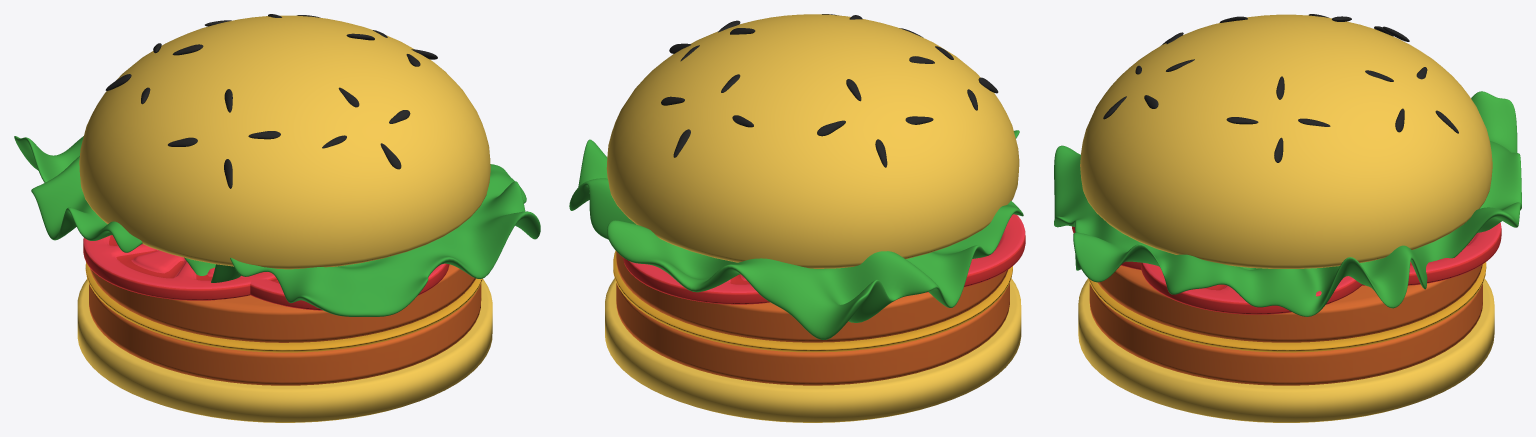
The model's file is Burger.fbx.
3 renders of one model, left to right at view 1: azimuth 30°, elevation 25°; view 2: azimuth 150°, elevation 25°; view 3: azimuth 270°, elevation 25°, orthographic.
Visible parts, largest first — view 1: Bread Up, Salat.001, Bread Down, Meat, Meat.001, Tomato.001, Bread Middle, Seed, Tomato.004; view 2: Bread Up, Salat.001, Bread Down, Meat, Meat.001, Bread Middle, Seed, Tomato.002, Tomato.001; view 3: Bread Up, Salat.001, Bread Down, Meat, Meat.001, Bread Middle, Tomato.003, Seed, Tomato.002.
Part boxes in pixels (bbox=[...]): Bread Up: bbox=[79, 15, 490, 269]; Salat.001: bbox=[14, 136, 540, 316]; Bread Down: bbox=[77, 278, 492, 422]; Meat: bbox=[89, 283, 481, 385]; Meat.001: bbox=[90, 264, 475, 342]; Tomato.001: bbox=[83, 235, 277, 300]; Bread Middle: bbox=[85, 262, 482, 352]; Seed: bbox=[105, 14, 437, 188]; Tomato.004: bbox=[240, 263, 449, 310]; Bread Up: bbox=[606, 14, 1019, 268]; Salat.001: bbox=[569, 130, 1023, 339]; Bread Down: bbox=[605, 278, 1021, 422]; Meat: bbox=[616, 283, 1009, 385]; Meat.001: bbox=[616, 251, 1007, 342]; Bread Middle: bbox=[613, 250, 1012, 352]; Seed: bbox=[661, 14, 998, 167]; Tomato.002: bbox=[622, 257, 769, 304]; Tomato.001: bbox=[926, 214, 1025, 292]; Bread Up: bbox=[1080, 14, 1492, 268]; Salat.001: bbox=[1054, 91, 1521, 316]; Bread Down: bbox=[1078, 278, 1494, 422]; Meat: bbox=[1089, 283, 1482, 385]; Meat.001: bbox=[1097, 264, 1482, 342]; Bread Middle: bbox=[1088, 262, 1486, 352]; Tomato.003: bbox=[1141, 262, 1361, 314]; Seed: bbox=[1103, 14, 1458, 162]; Tomato.002: bbox=[1362, 222, 1501, 285].
Bounding box in the file's own units: 226 × 166 × 238.
